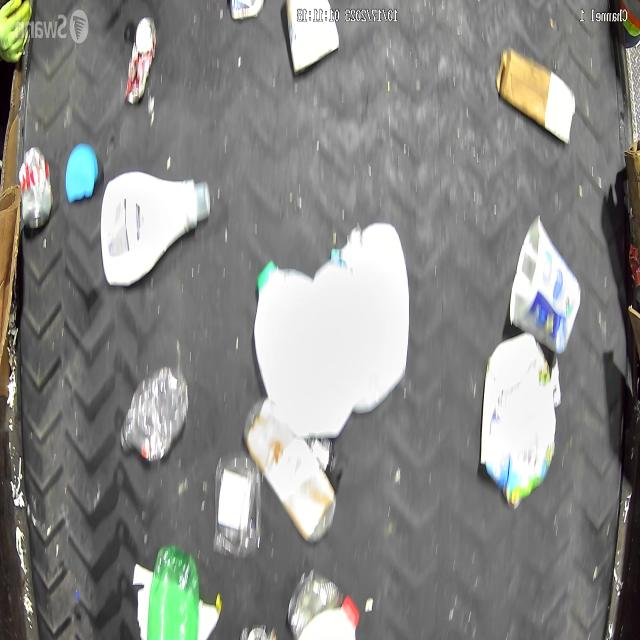can: (287, 568, 343, 640), (19, 144, 52, 232), (124, 14, 154, 108)
milk_jug: (313, 223, 409, 413), (254, 260, 356, 437)
non_white_jug: (479, 333, 556, 509), (97, 171, 209, 289)
plastic_bottle: (118, 366, 189, 462)
